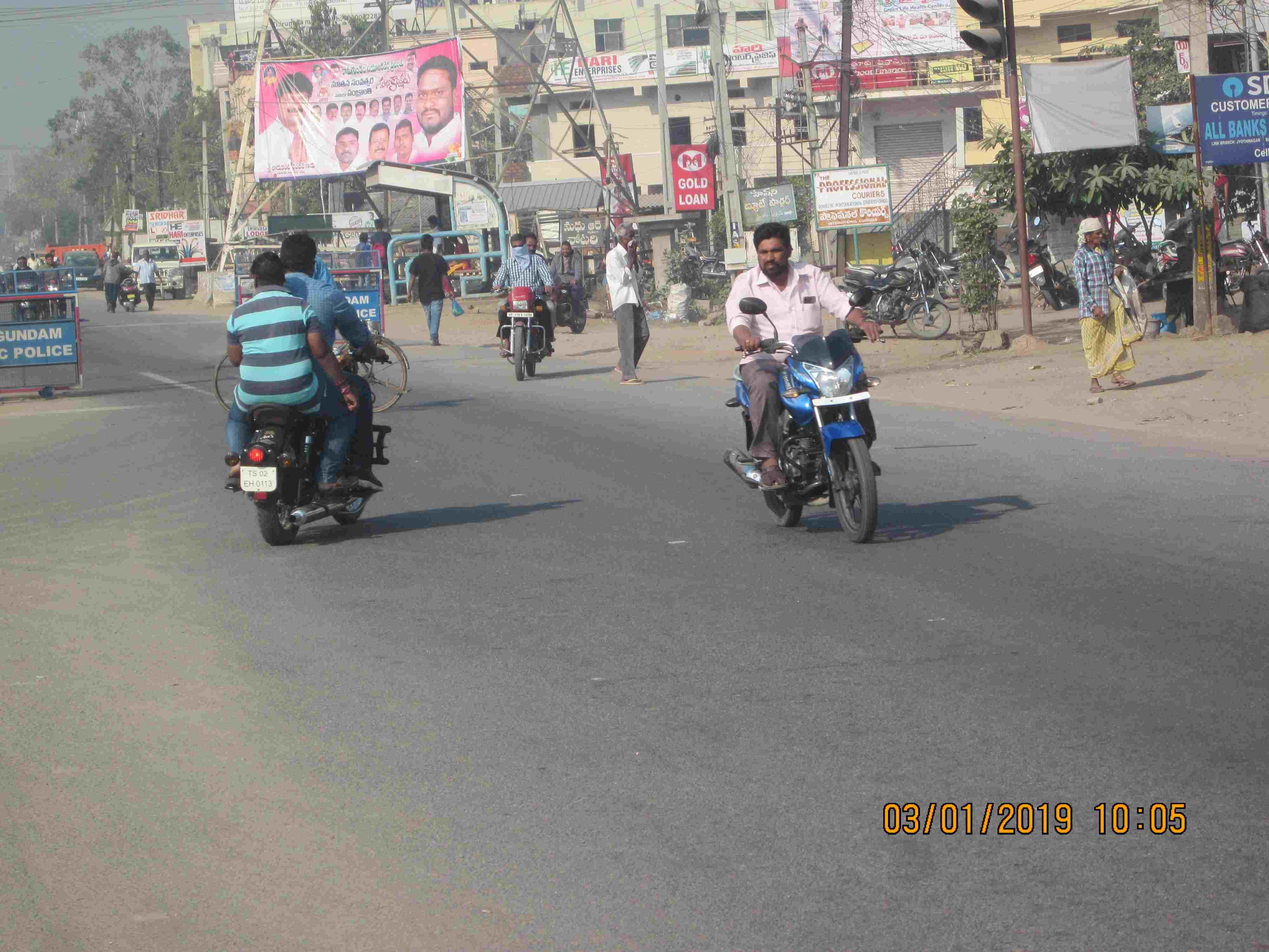plate: (803, 384, 883, 413), (233, 460, 288, 498)
